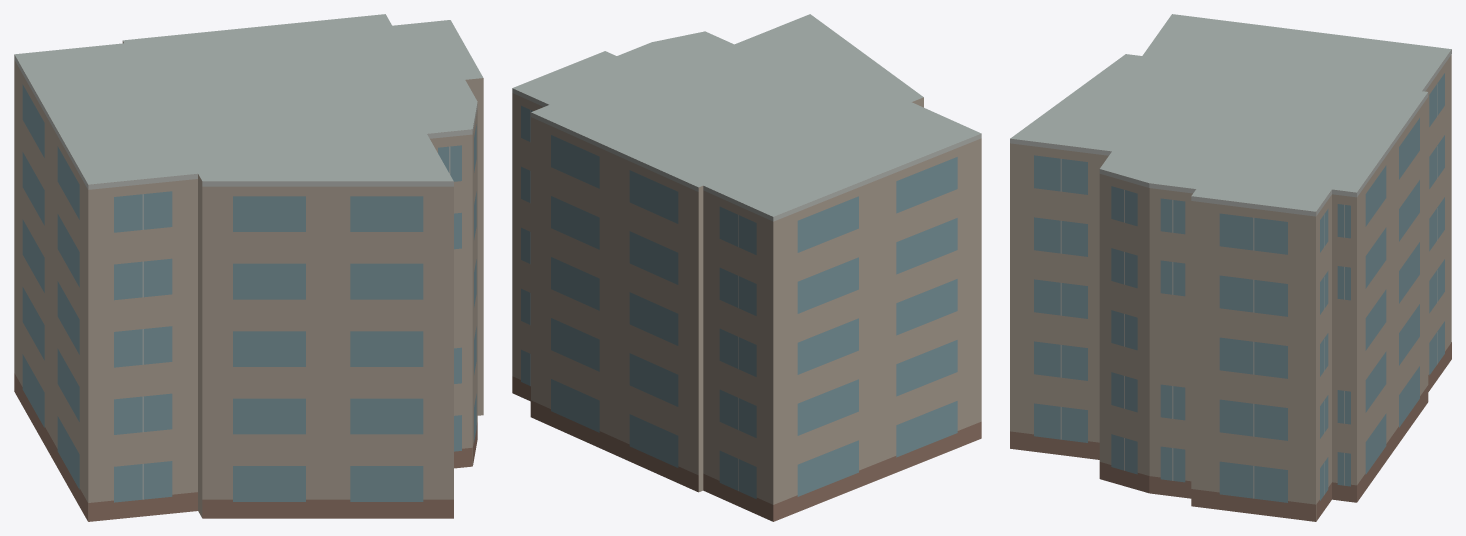
The model's file is survey-upis-32654758.glb.
3 views of the same model, side by side, from view 1: azimuth 30°, elevation 25°; view 2: azimuth 150°, elevation 25°; view 3: azimuth 270°, elevation 25° (orthographic). The views are drawn at different scales.
Visible parts, largest first — view 1: survey-upis-32654758.tmp; view 2: survey-upis-32654758.tmp; view 3: survey-upis-32654758.tmp.
Boxes of the visible parts, box(x1,y1,x2,y2) form: survey-upis-32654758.tmp: box(14, 14, 483, 521); survey-upis-32654758.tmp: box(512, 14, 981, 521); survey-upis-32654758.tmp: box(1010, 14, 1451, 521).
Bounding box in the file's own units: 21.64 × 15.81 × 20.42.
